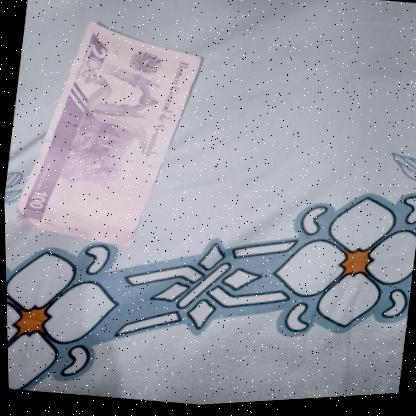one_hundred-back-vef: (8, 8, 209, 261)
